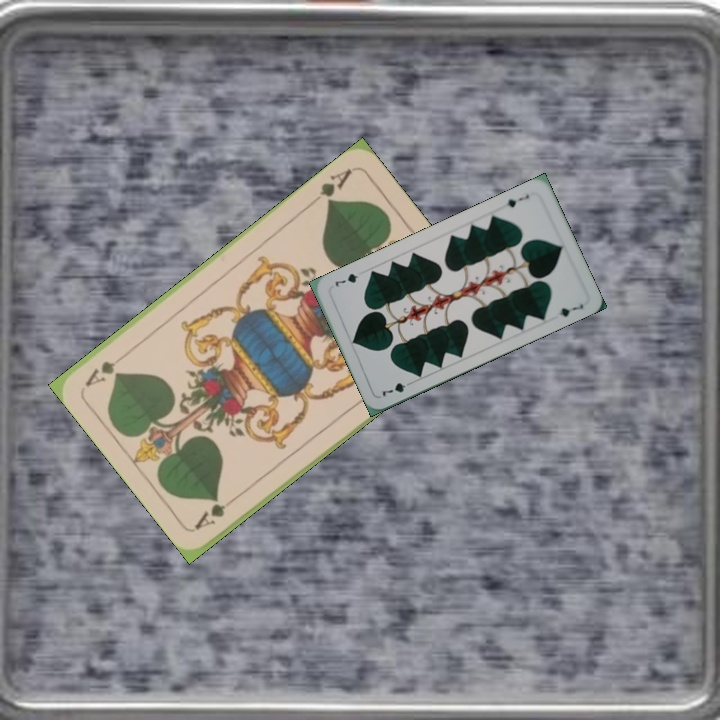G7: (378, 377, 416, 400), (502, 190, 532, 210)
GA: (306, 164, 355, 209), (191, 490, 242, 533)
